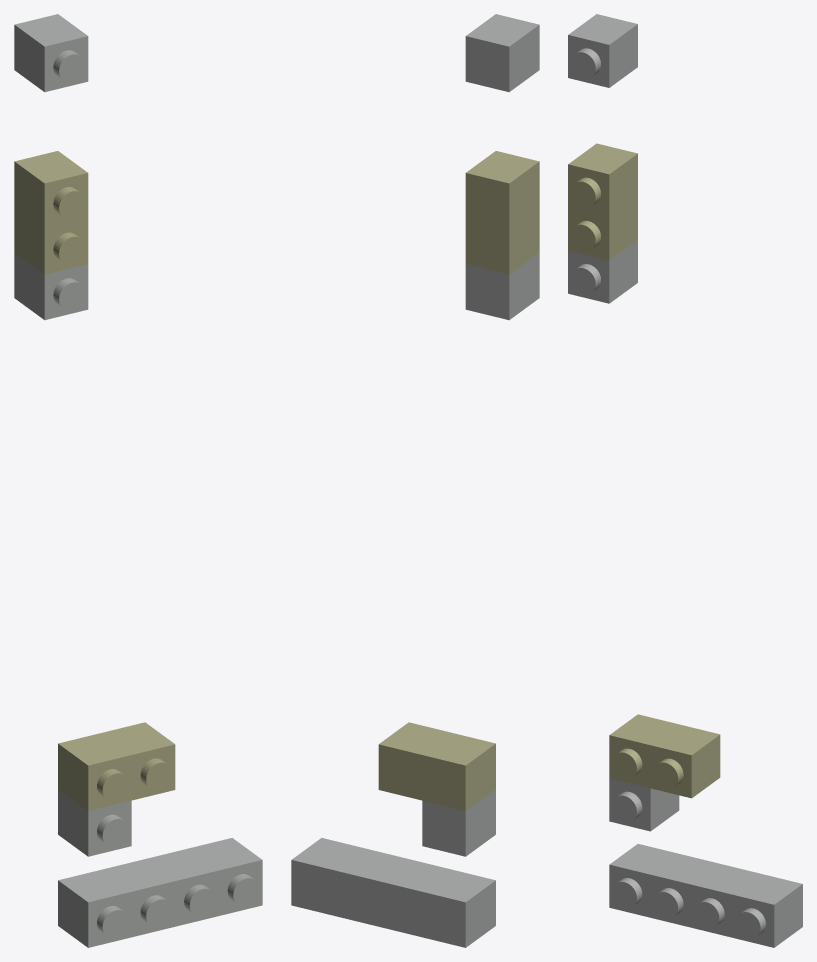
File: current.glb
3 views of the same model, side by side, from view 1: azimuth 30°, elevation 25°; view 2: azimuth 150°, elevation 25°; view 3: azimuth 330°, elevation 25° (orthographic). The views are drawn at different scales.
Parts seen in each view (by area): view 1: world; view 2: world; view 3: world.
Boxes of the visible parts, x1=… form: world: x1=14, y1=14, x2=262, y2=947; world: x1=291, y1=14, x2=539, y2=947; world: x1=568, y1=14, x2=802, y2=947.
Size of the model in its own units: 40 by 160 by 11.4.
